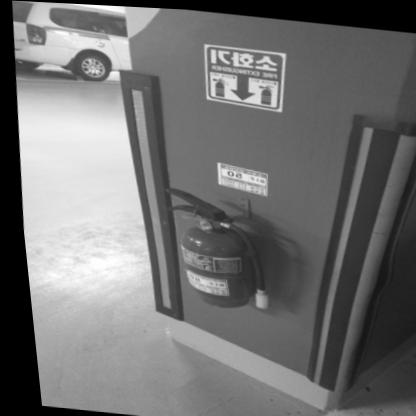FE: (157, 181, 271, 309)
